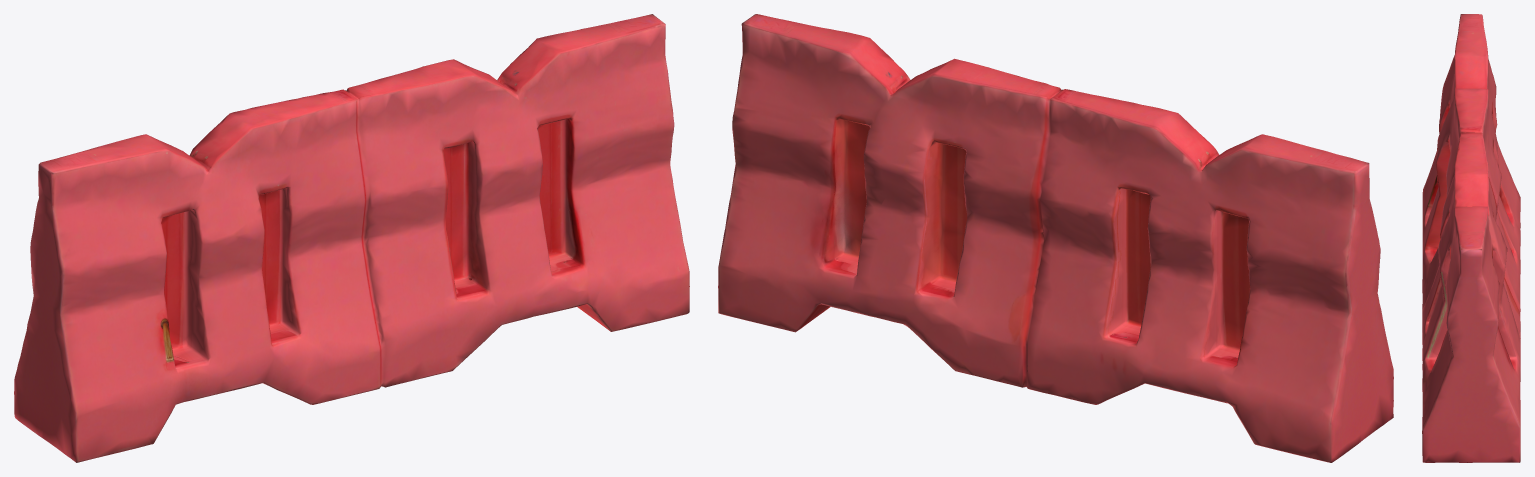
File: Red_Abstract_Shape_1120181116_texture.fbx
3 views of the same model, side by side, from view 1: azimuth 30°, elevation 25°; view 2: azimuth 150°, elevation 25°; view 3: azimuth 270°, elevation 25° (orthographic). The views are drawn at different scales.
Visible parts, largest first — view 1: Mesh1.0; view 2: Mesh1.0; view 3: Mesh1.0.
Part boxes in pixels (x1=…): Mesh1.0: x1=14, y1=14, x2=689, y2=462; Mesh1.0: x1=718, y1=14, x2=1393, y2=462; Mesh1.0: x1=1422, y1=14, x2=1520, y2=462.
Bounding box in the file's own units: 201 × 85.28 × 35.49.
Materials: 1 (1 with a texture image).
